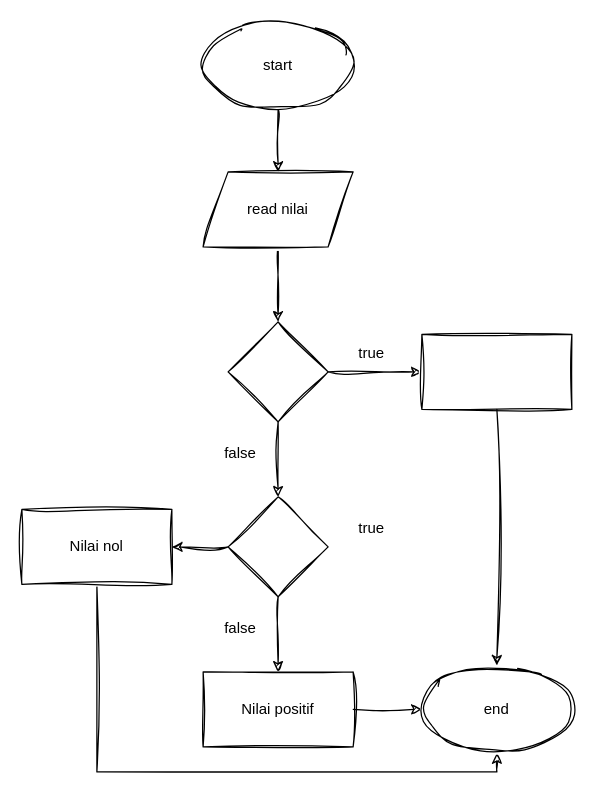
Image size: 594x804. Some labels were removed from this diagram. Each missing label, with the box of its shape:
nilai < 0 ?: (227, 321, 328, 422)
nilai == 0 ?: (227, 496, 328, 597)
Nilai negatif: (421, 333, 572, 409)
